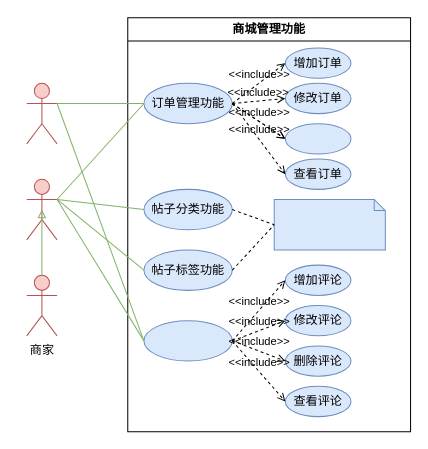
Image size: 428x449. Some labels were removed from this diagram. The centre of each missing label's shape, as x and y in pixels:
"删除订单" belongs at pixel 317 138.
"参考博客归档功能，按照分类及标签区分" belongs at pixel 329 224.
"商品管理功能" belongs at pixel 187 340.
"普通用户" belongs at pixel 41 209.
"管理员" belongs at pixel 41 113.
